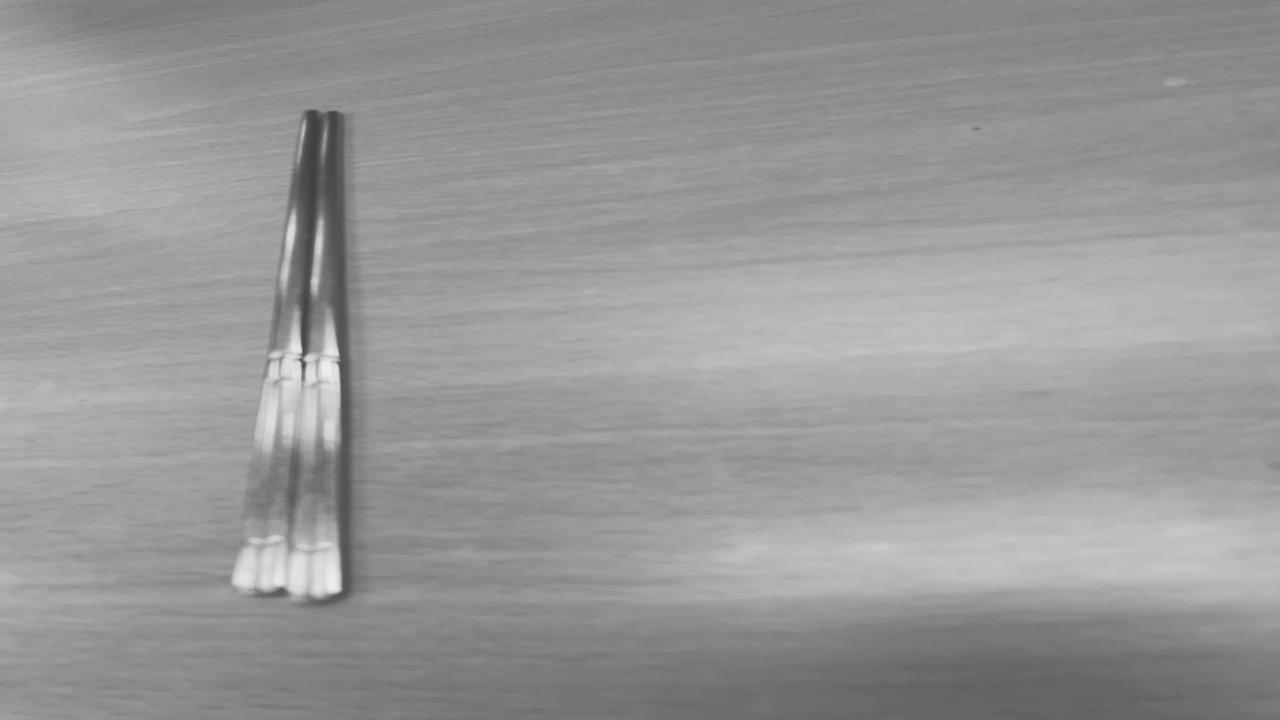chopstick: (235, 112, 343, 600)
